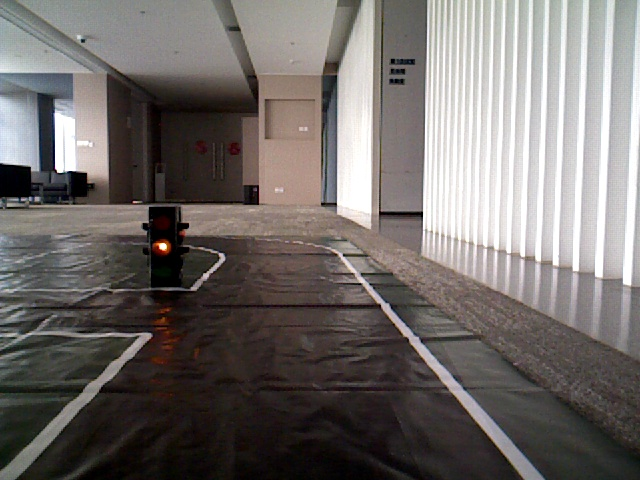yellow: (147, 209, 177, 281)
